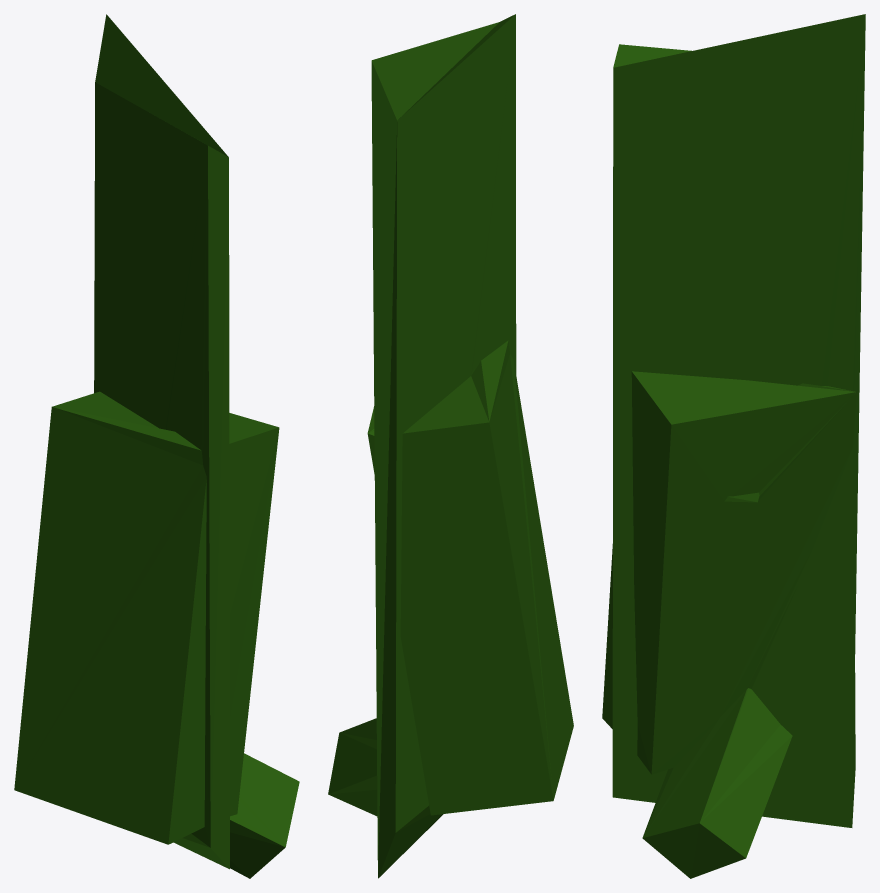
The picture shows the model from 3 angles, left to right: view 1: azimuth 30°, elevation 25°; view 2: azimuth 150°, elevation 25°; view 3: azimuth 270°, elevation 25°; orthographic projection. The views are drawn at different scales.
Visible parts, largest first — view 1: 012_Cube.059; view 2: 012_Cube.059; view 3: 012_Cube.059.
Part boxes in pixels (x1=…): 012_Cube.059: x1=14, y1=14, x2=299, y2=878; 012_Cube.059: x1=328, y1=14, x2=573, y2=878; 012_Cube.059: x1=602, y1=14, x2=865, y2=878.
Bounding box in the file's own units: 4.17 × 13.23 × 3.78.
